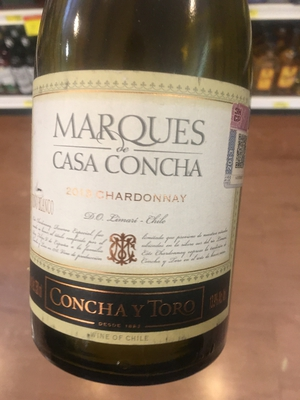marques de casa concha chardonnay: (33, 8, 253, 365)
